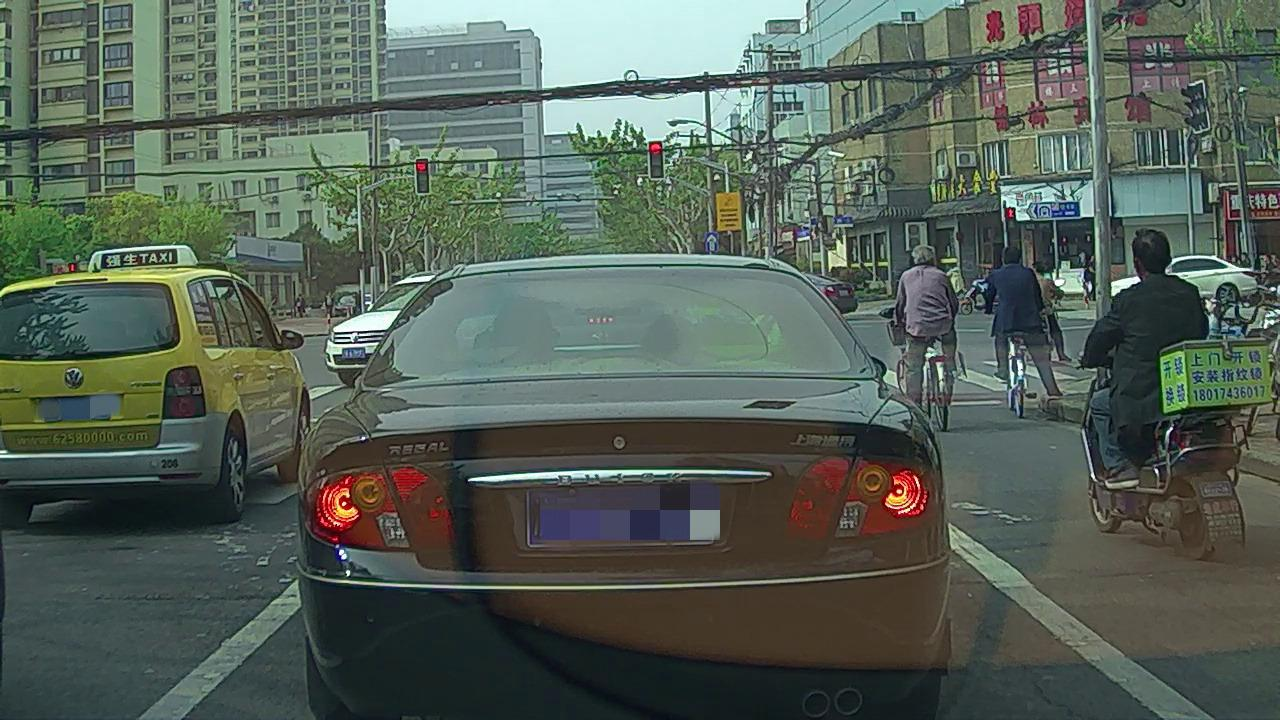traffic_light: (648, 141, 665, 179), (415, 158, 430, 194)
